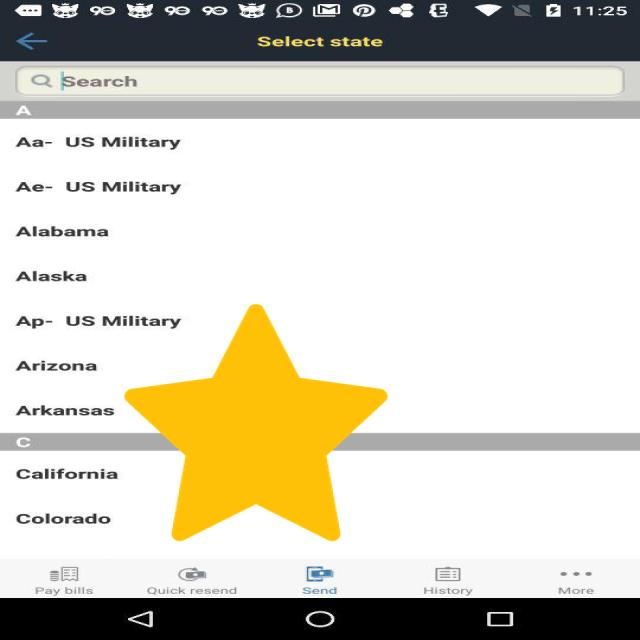forced continuity: (125, 304, 388, 541)
